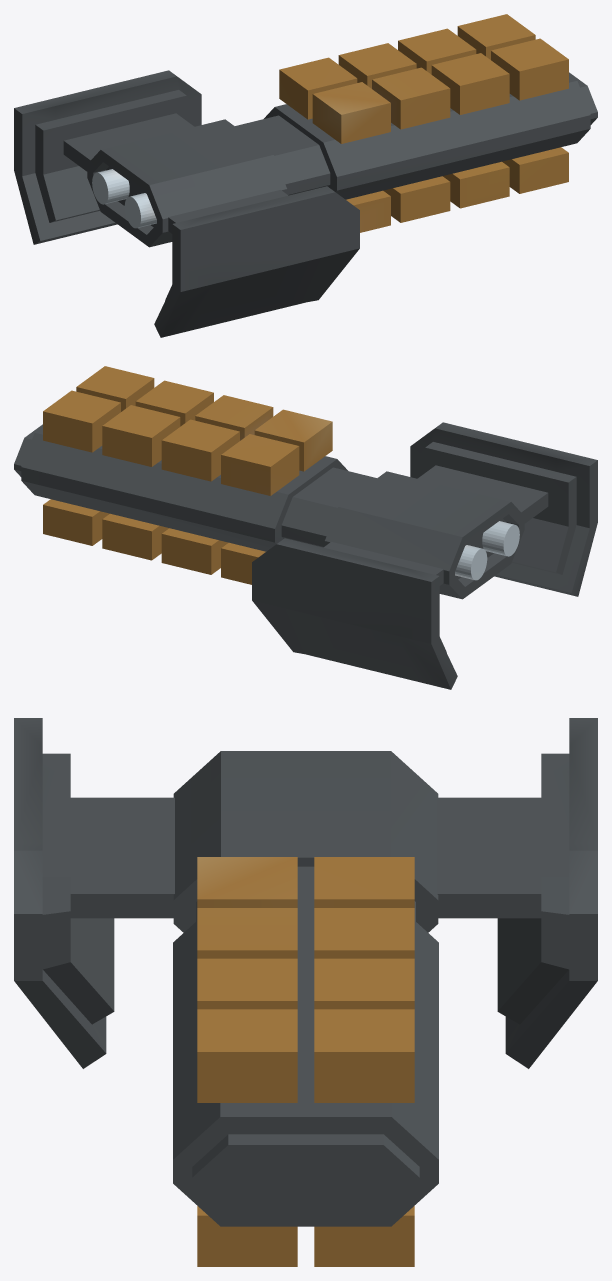
The model's file is ship.gltf.
3 renders of one model, top to bottom at view 1: azimuth 30°, elevation 25°; view 2: azimuth 150°, elevation 25°; view 3: azimuth 270°, elevation 25°, orthographic. The views are drawn at different scales.
Visible parts, largest first — view 1: Ship, Cargo, Engines; view 2: Ship, Cargo, Engines; view 3: Ship, Cargo.
Part boxes in pixels (left/top/right/bottom): Ship: left=14, top=70, right=597, bottom=337; Cargo: left=279, top=14, right=568, bottom=232; Engines: left=92, top=169, right=156, bottom=228; Ship: left=14, top=422, right=597, bottom=689; Cargo: left=43, top=366, right=332, bottom=584; Engines: left=455, top=521, right=519, bottom=580; Ship: left=14, top=718, right=597, bottom=1226; Cargo: left=197, top=857, right=414, bottom=1266.
Size of the model in its own units: 18.93 by 5.71 by 11.65.
